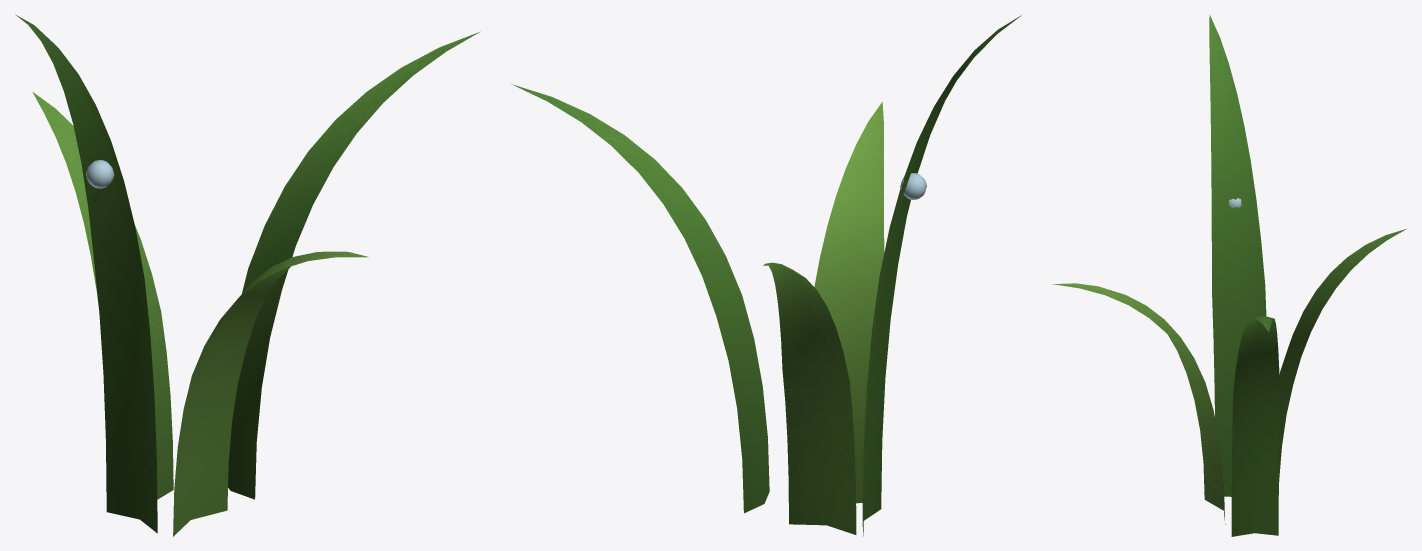
The model's file is grass-short.obj.
3 views of the same model, side by side, from view 1: azimuth 30°, elevation 25°; view 2: azimuth 150°, elevation 25°; view 3: azimuth 270°, elevation 25° (orthographic). The views are drawn at different scales.
Parts seen in each view (by area): view 1: grass; view 2: grass; view 3: grass.
Part boxes in pixels (x1=…): grass: x1=15, y1=14, x2=480, y2=536; grass: x1=511, y1=15, x2=1021, y2=536; grass: x1=1052, y1=15, x2=1407, y2=536.
Size of the model in its own units: 1001 by 1056 by 797.
